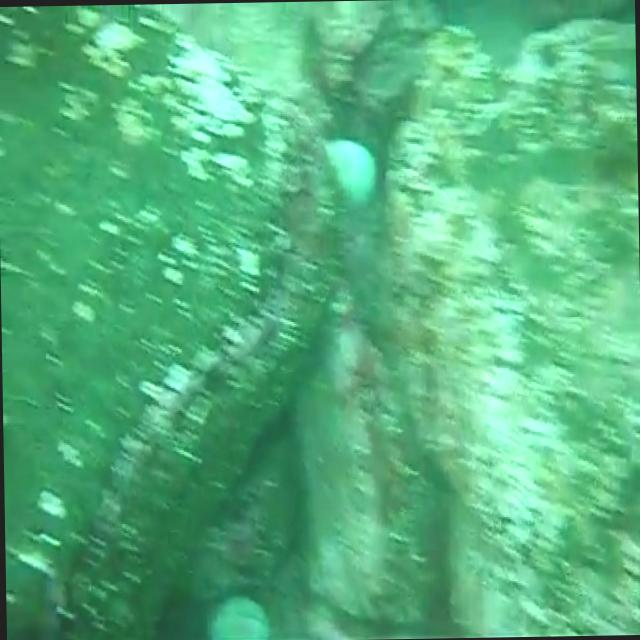Deniz Kestanesi: (310, 132, 386, 215)
